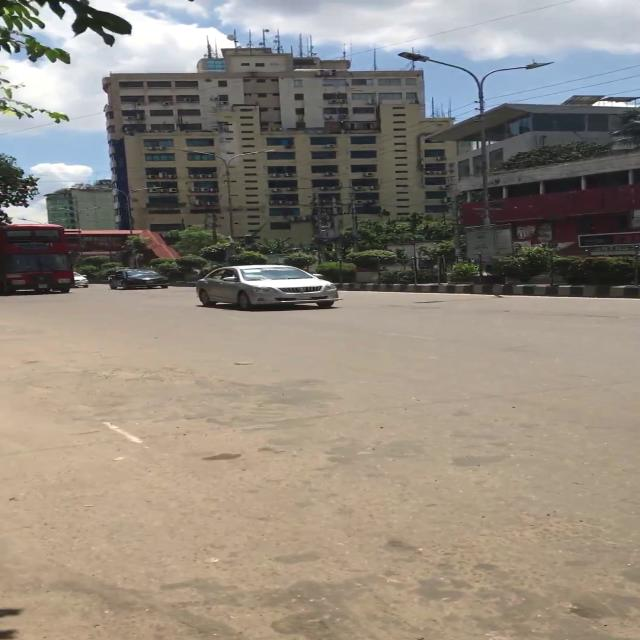silver: (197, 260, 333, 306)
